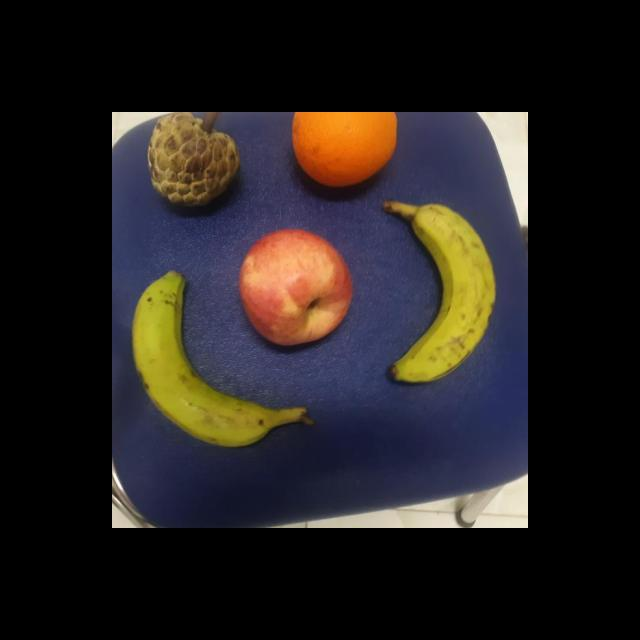Sakya fruit: (148, 112, 238, 215)
apple: (236, 230, 354, 348)
banana: (128, 268, 318, 450), (378, 198, 501, 387)
orange: (290, 112, 398, 195)
